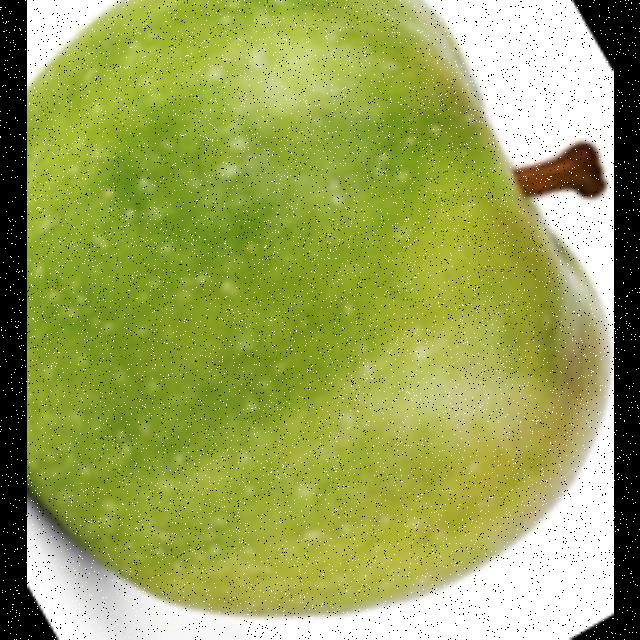Apel Segar: (27, 1, 609, 614)
